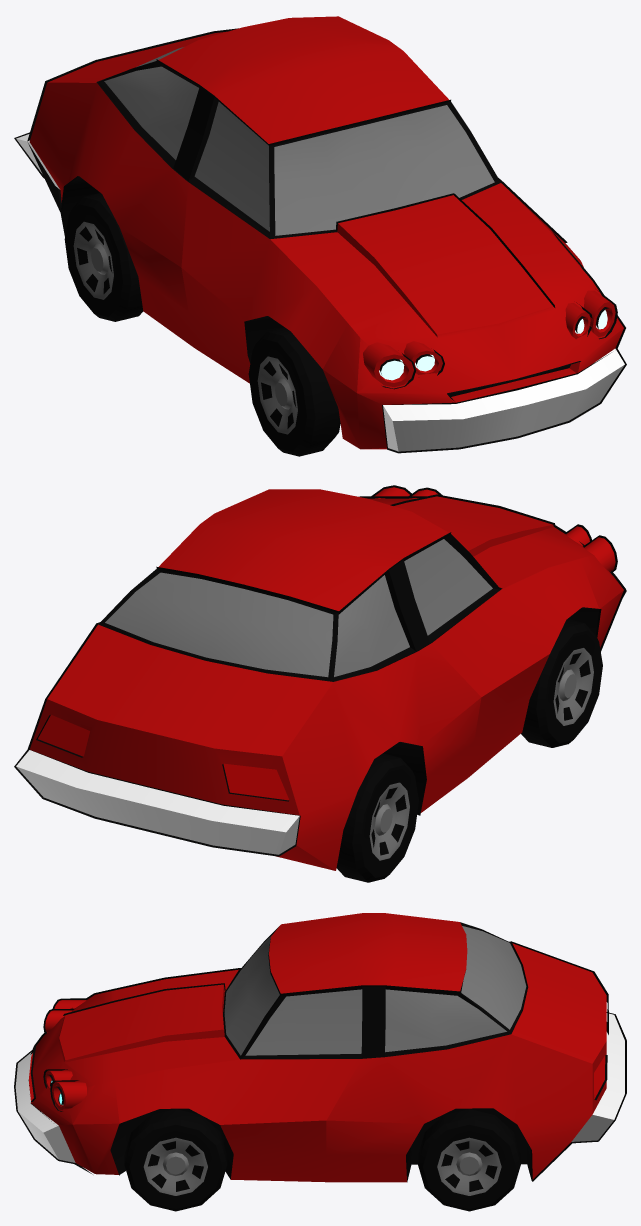
The model's file is car.glb.
The picture shows the model from 3 angles, top to bottom: view 1: azimuth 30°, elevation 25°; view 2: azimuth 150°, elevation 25°; view 3: azimuth 270°, elevation 25°; orthographic projection. The views are drawn at different scales.
Parts seen in each view (by area): view 1: Object_3, Object_6, Object_7, Object_5, Object_2, Object_4; view 2: Object_3, Object_6, Object_7, Object_5, Object_2, Object_8; view 3: Object_3, Object_6, Object_7, Object_5, Object_2.
Boxes of the visible parts, x1,y1,x2,y2 form: Object_3: (29,16,623,449); Object_6: (73,47,494,434); Object_7: (62,61,570,456); Object_5: (16,134,624,451); Object_2: (14,28,626,453); Object_4: (379,310,607,380); Object_3: (30,487,623,870); Object_6: (105,539,593,860); Object_7: (98,534,602,882); Object_5: (16,750,299,854); Object_2: (14,485,626,856); Object_8: (38,715,289,800); Object_3: (29,913,606,1182); Object_6: (143,926,526,1195); Object_7: (110,922,531,1211); Object_5: (15,1013,624,1162); Object_2: (14,941,626,1182).
Bounding box in the file's own units: 2.14 × 1.81 × 4.64.
